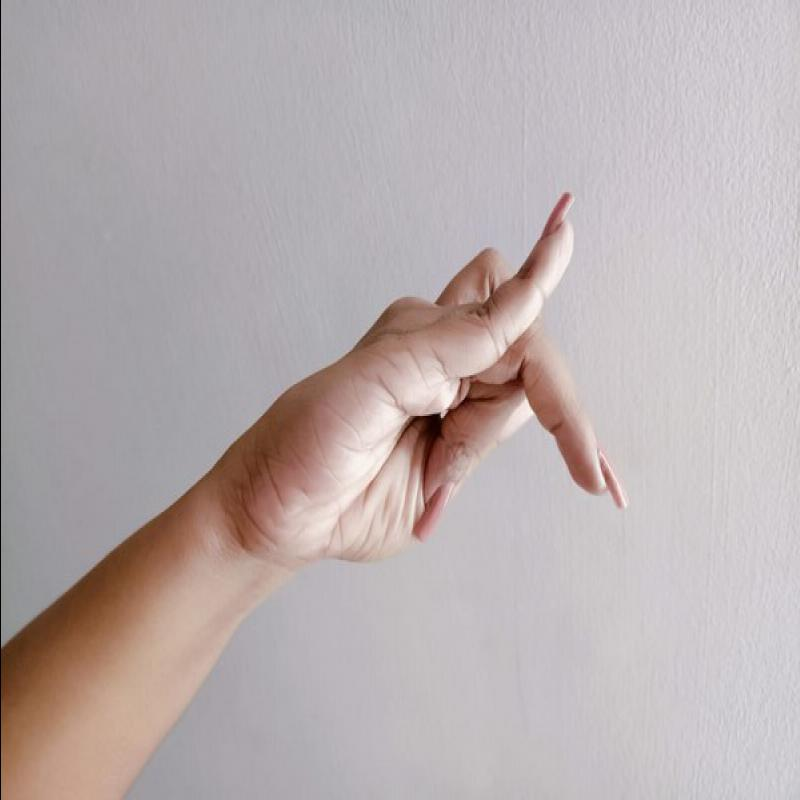Katakam: (223, 182, 649, 573)
